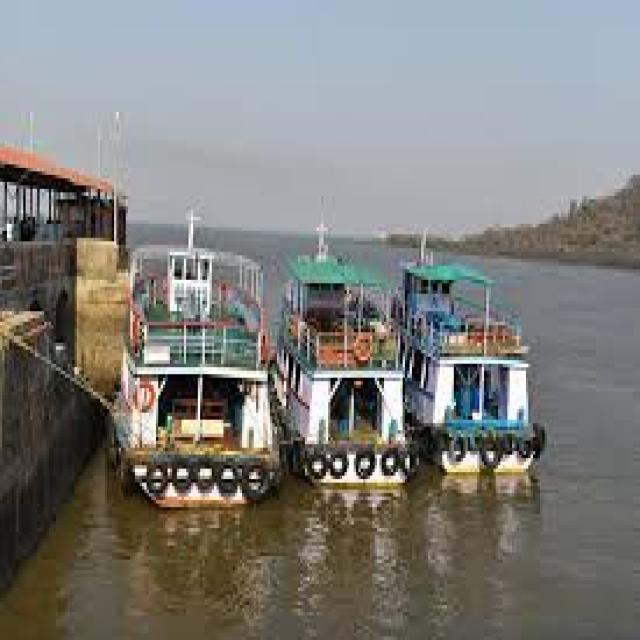fishing boat: (115, 232, 278, 502), (271, 231, 410, 495), (398, 240, 550, 480)
